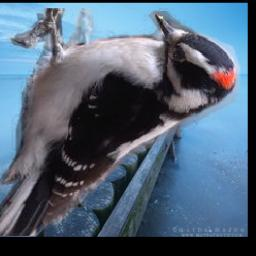Woodpecker: (0, 9, 242, 237)
